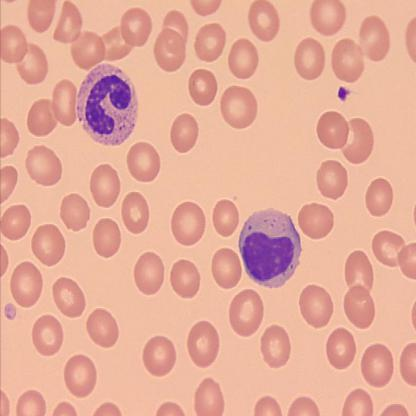Atypical lymphocyte: (239, 206, 302, 290), (79, 63, 138, 144)
